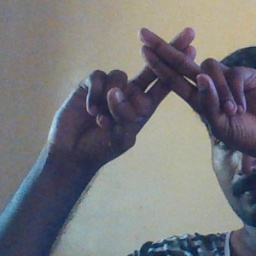F: (95, 14, 245, 131)
